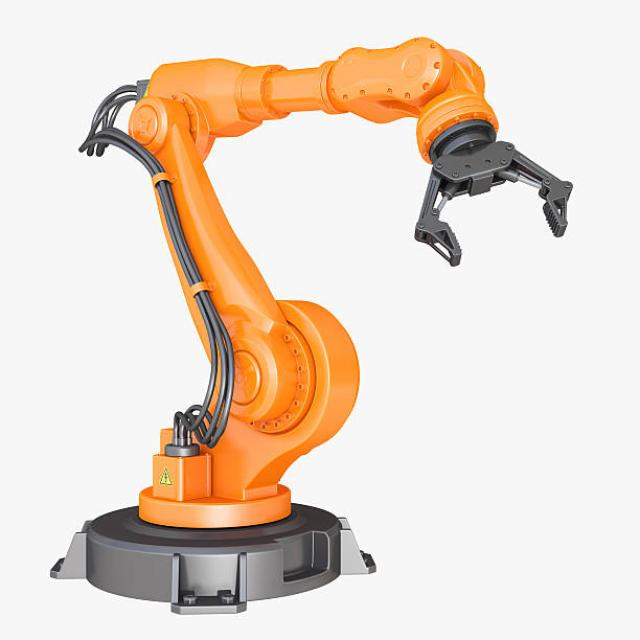Robotic-arm: (47, 37, 575, 620)
